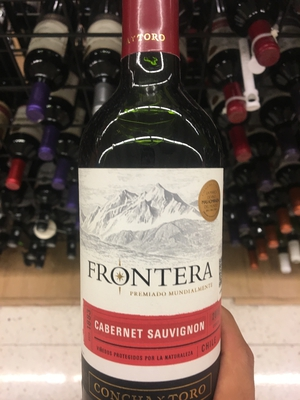frontera cabernet sauvignon: (74, 10, 230, 400)
